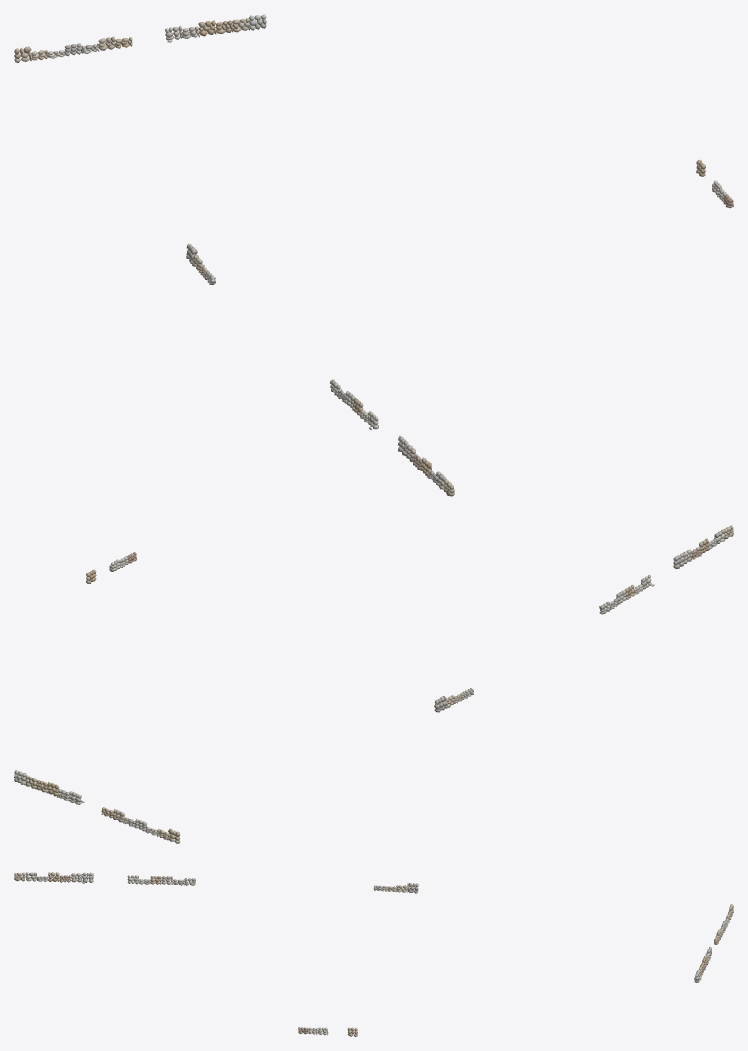
File: farm_17_18_near.glb
3 renders of one model, top to bottom at view 1: azimuth 30°, elevation 25°; view 2: azimuth 150°, elevation 25°; view 3: azimuth 270°, elevation 25°, orthographic. The views are drawn at different scales.
Visible parts, largest first — view 1: geometry_0; view 2: geometry_0; view 3: geometry_0.
Part boxes in pixels (x1,y1,x2,y2): geometry_0: (14, 14, 733, 496); geometry_0: (14, 525, 733, 843); geometry_0: (14, 872, 733, 1036).
Size of the model in its own units: 53.77 by 2.24 by 99.8.
